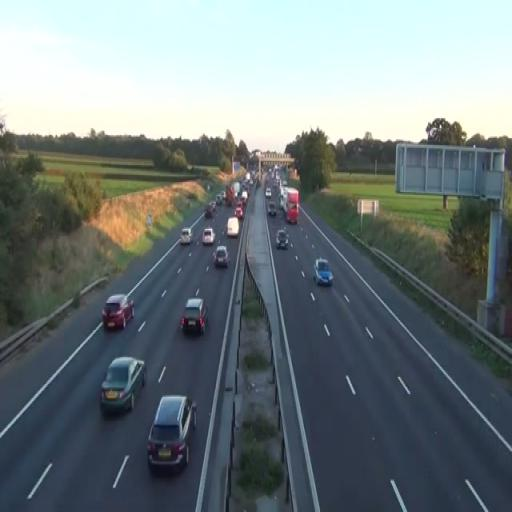Bus: (286, 188, 300, 223)
Car: (146, 394, 198, 476), (99, 356, 147, 415), (102, 294, 135, 330), (180, 296, 209, 335), (313, 258, 334, 287), (213, 245, 230, 268), (226, 216, 239, 238), (276, 230, 288, 250), (202, 227, 215, 245)
Truck: (286, 187, 300, 224)
